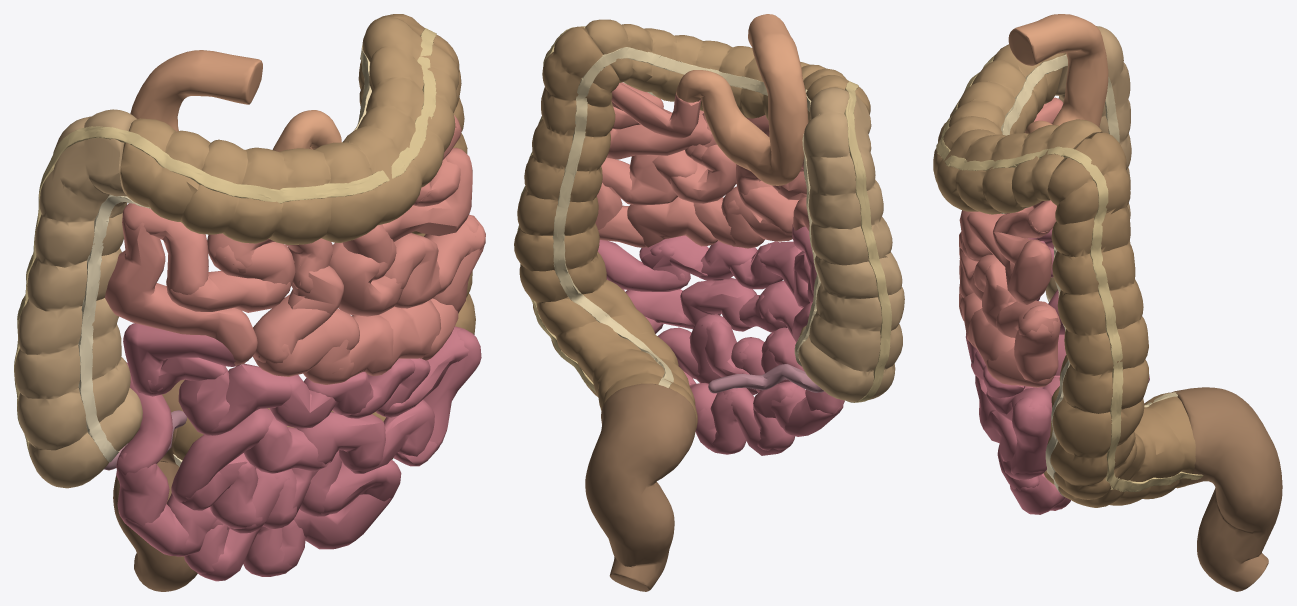
Rendered from intestines.glb.
3 views of the same model, side by side, from view 1: azimuth 30°, elevation 25°; view 2: azimuth 150°, elevation 25°; view 3: azimuth 270°, elevation 25° (orthographic). The views are drawn at different scales.
Visible parts, largest first — view 1: ileum, jejunum, transverse-colon, ascending-colon, duodenum, omental-taenia, free-taenia, rectum, descending-colon; view 2: ileum, descending-colon, jejunum, ascending-colon, rectum, duodenum, transverse-colon, mesocolic-taenia, omental-taenia, appendix; view 3: descending-colon, jejunum, transverse-colon, rectum, ileum, duodenum, omental-taenia, ascending-colon, mesocolic-taenia, free-taenia.
Part boxes in pixels (x1,y1,x2,y2): ileum: (116,323,481,581); jejunum: (105,115,485,384); transverse-colon: (120,16,458,244); ascending-colon: (14,109,142,488); duodenum: (130,50,341,151); omental-taenia: (14,28,436,458); free-taenia: (78,194,182,466); rectum: (113,379,197,591); descending-colon: (172,14,475,460); ileum: (597,224,844,455); descending-colon: (514,26,697,429); jejunum: (595,82,809,248); ascending-colon: (798,87,904,401); rectum: (585,383,696,591); duodenum: (676,14,808,185); transverse-colon: (585,19,870,122); mesocolic-taenia: (552,47,820,387); omental-taenia: (517,26,891,402); appendix: (708,364,824,393); descending-colon: (1043,132,1195,507); jejunum: (959,97,1063,387); transverse-colon: (933,44,1102,214); rectum: (1171,387,1282,591); ileum: (965,228,1070,514); duodenum: (1008,14,1108,133); omental-taenia: (936,55,1203,491); ascending-colon: (1045,26,1131,301); mesocolic-taenia: (1001,54,1177,407); free-taenia: (1001,96,1070,496).
Bounding box in the file's own units: 2.93 × 3.84 × 2.23.
